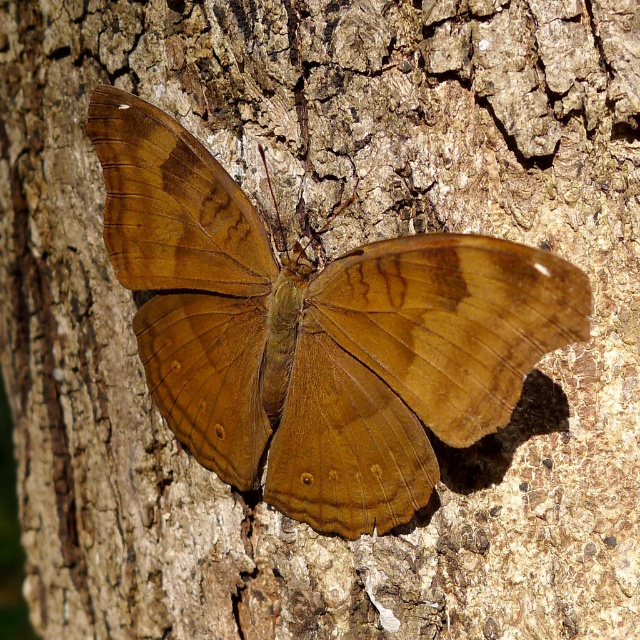Butterfly: (53, 126, 596, 526)
